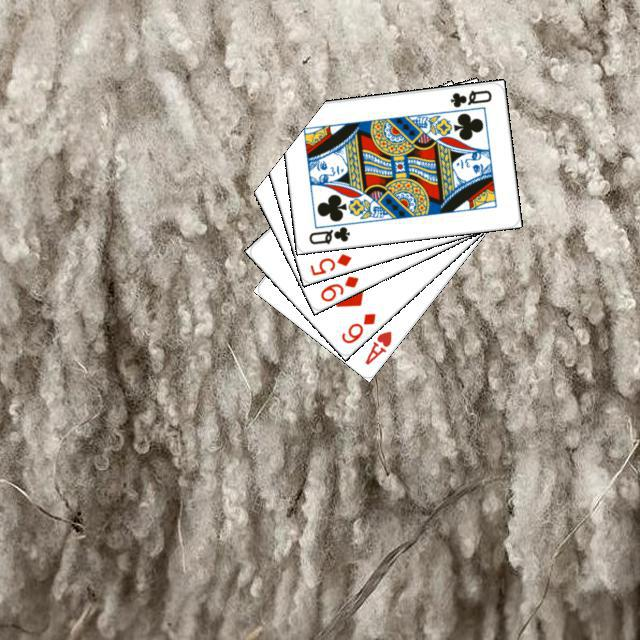5d: (305, 249, 353, 277)
6d: (336, 308, 377, 345)
9d: (315, 271, 360, 303)
Ah: (360, 326, 394, 367)
Qc: (304, 217, 355, 246), (445, 85, 493, 109)
